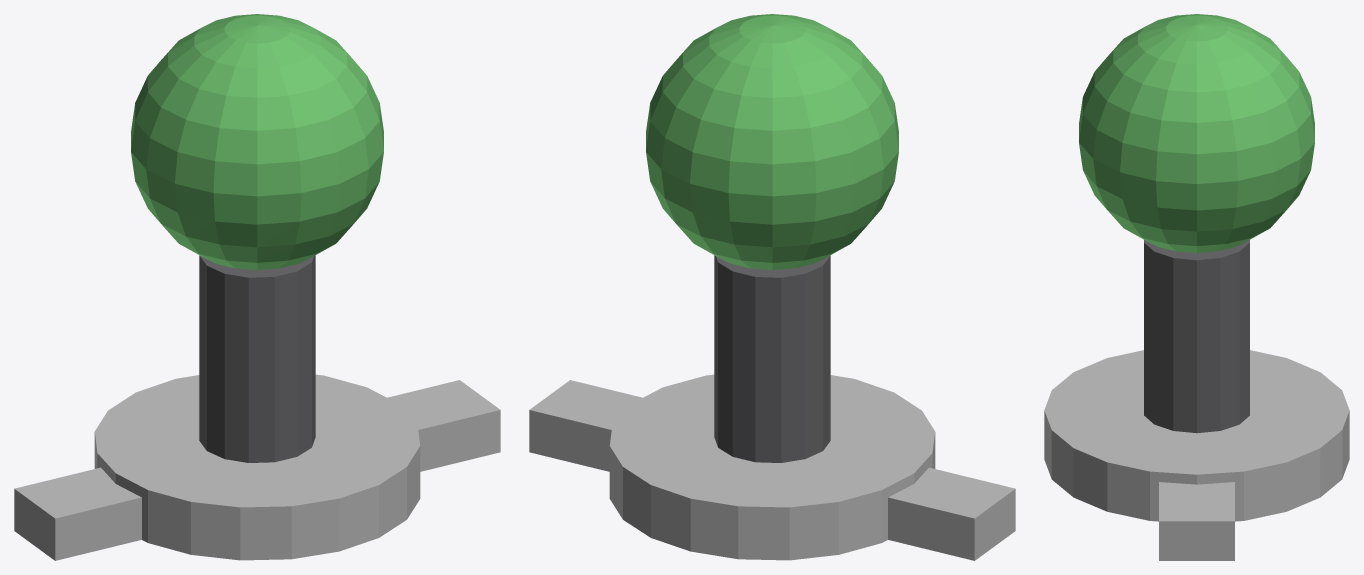
File: vge_pos_beacon_green.obj
The picture shows the model from 3 angles, left to right: view 1: azimuth 30°, elevation 25°; view 2: azimuth 150°, elevation 25°; view 3: azimuth 270°, elevation 25°; orthographic projection. The views are drawn at different scales.
Visible parts, largest first — view 1: vge_pos_beacon_green_4, vge_pos_beacon_green_0, vge_pos_beacon_green_3, vge_pos_beacon_green_1, vge_pos_beacon_green_2; view 2: vge_pos_beacon_green_4, vge_pos_beacon_green_0, vge_pos_beacon_green_3, vge_pos_beacon_green_1, vge_pos_beacon_green_2; view 3: vge_pos_beacon_green_4, vge_pos_beacon_green_0, vge_pos_beacon_green_3, vge_pos_beacon_green_2.
Boxes of the visible parts, x1,y1,x2,y2 form: vge_pos_beacon_green_4: (131,14,383,269); vge_pos_beacon_green_0: (94,374,420,560); vge_pos_beacon_green_3: (199,255,315,462); vge_pos_beacon_green_1: (14,467,141,560); vge_pos_beacon_green_2: (387,380,500,471); vge_pos_beacon_green_4: (646,14,898,269); vge_pos_beacon_green_0: (609,374,935,560); vge_pos_beacon_green_3: (714,255,830,462); vge_pos_beacon_green_1: (888,467,1015,560); vge_pos_beacon_green_2: (529,380,642,471); vge_pos_beacon_green_4: (1079,14,1314,252); vge_pos_beacon_green_0: (1044,350,1349,521); vge_pos_beacon_green_3: (1144,240,1249,433); vge_pos_beacon_green_2: (1159,482,1234,560).
Bounding box in the file's own units: 0.88 × 0.88 × 0.56.
